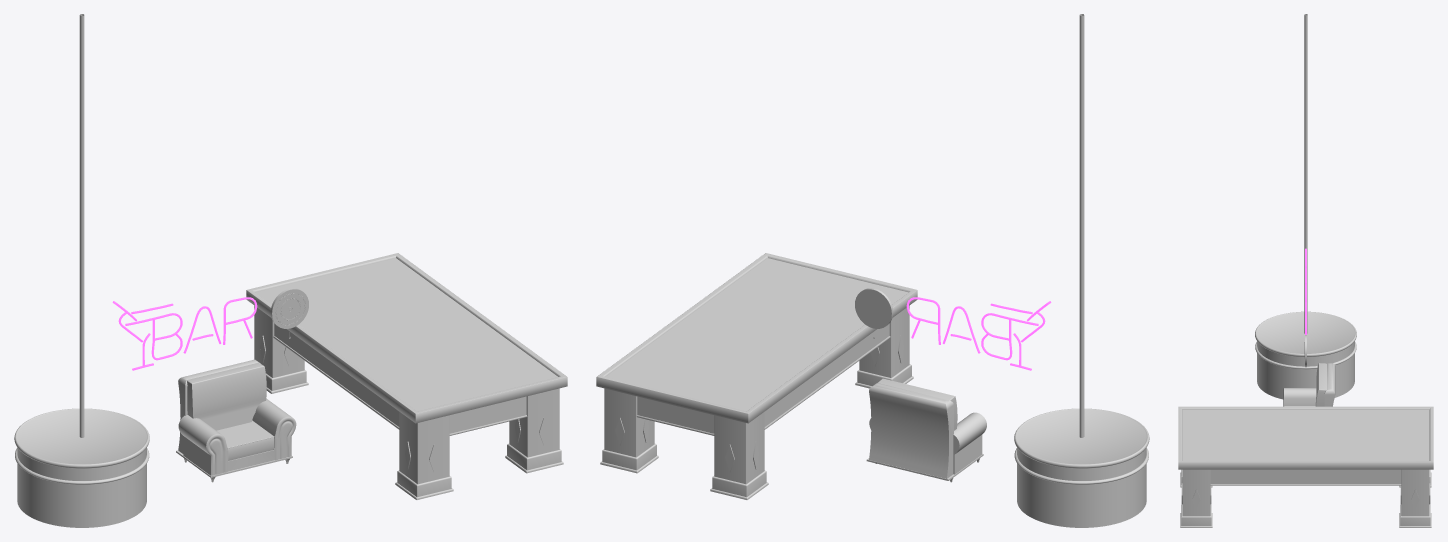
The model's file is AssetsGame.fbx.
The picture shows the model from 3 angles, left to right: view 1: azimuth 30°, elevation 25°; view 2: azimuth 150°, elevation 25°; view 3: azimuth 270°, elevation 25°; orthographic projection. The views are drawn at different scales.
Visible parts, largest first — view 1: PoolTableTop, PoleDanceBase, PoolTableLeg, ArmchairPaddedBackrest, ArmchairPaddedArmrest, PoleDancePole, LedBAR, ArmchairPaddedBase, DartBoard, ArmchairWoodBackrest; view 2: PoolTableTop, PoleDanceBase, PoolTableLeg, ArmchairWoodBackrest, PoleDancePole, LedBAR, ArmchairPaddedArmrest, DartBoard; view 3: PoolTableTop, PoleDanceBase, PoolTableLeg, PoleDancePole, ArmchairPaddedArmrest, ArmchairPaddedBackrest, ArmchairWoodBackrest.
Boxes of the visible parts, left/top/right/bottom form: PoolTableTop: left=246, top=253, right=567, bottom=435; PoleDanceBase: left=14, top=408, right=149, bottom=527; PoolTableLeg: left=254, top=306, right=563, bottom=499; ArmchairPaddedBackrest: left=186, top=362, right=266, bottom=430; ArmchairPaddedArmrest: left=178, top=398, right=296, bottom=475; PoleDancePole: left=79, top=14, right=84, bottom=437; LedBAR: left=112, top=297, right=257, bottom=370; ArmchairPaddedBase: left=216, top=420, right=274, bottom=460; DartBoard: left=270, top=288, right=308, bottom=328; ArmchairWoodBackrest: left=178, top=359, right=260, bottom=453; PoolTableTop: left=596, top=253, right=917, bottom=435; PoleDanceBase: left=1014, top=408, right=1149, bottom=527; PoolTableLeg: left=600, top=306, right=913, bottom=499; ArmchairWoodBackrest: left=869, top=383, right=953, bottom=478; PoleDancePole: left=1079, top=14, right=1084, bottom=437; LedBAR: left=906, top=297, right=1051, bottom=370; ArmchairPaddedArmrest: left=869, top=412, right=986, bottom=474; DartBoard: left=855, top=288, right=893, bottom=328; PoolTableTop: left=1178, top=406, right=1433, bottom=485; PoleDanceBase: left=1255, top=311, right=1356, bottom=399; PoolTableLeg: left=1180, top=469, right=1431, bottom=527; PoleDancePole: left=1304, top=14, right=1307, bottom=333; ArmchairPaddedArmrest: left=1283, top=388, right=1316, bottom=406; ArmchairPaddedBackrest: left=1315, top=363, right=1326, bottom=406; ArmchairWoodBackrest: left=1324, top=363, right=1335, bottom=406.
Bounding box in the file's own units: 590 × 596 × 377.
